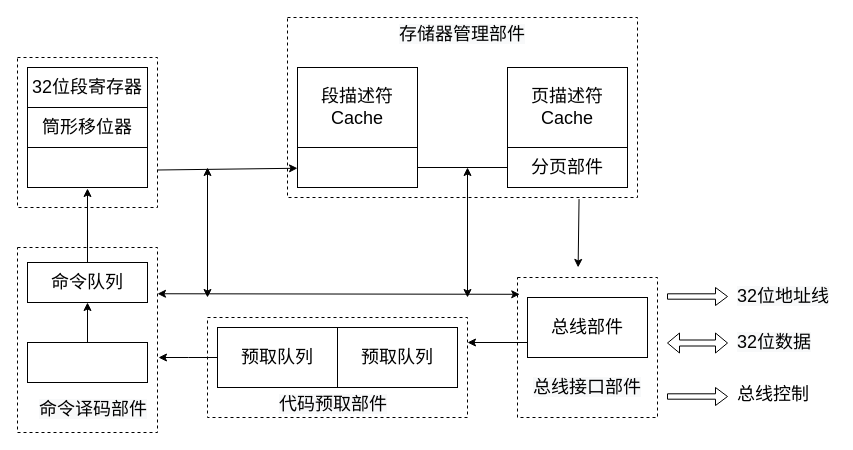
Some shapes in this 853 by 450 pixel diagram are drawn without their labels. The shapes that lost their labels are listed below. From the top down, each one's centre as x and y in pixels, then its label:
At pixel 87 167: "ALU".
At pixel 357 167: "分段部件".
At pixel 87 362: "命令部件".
